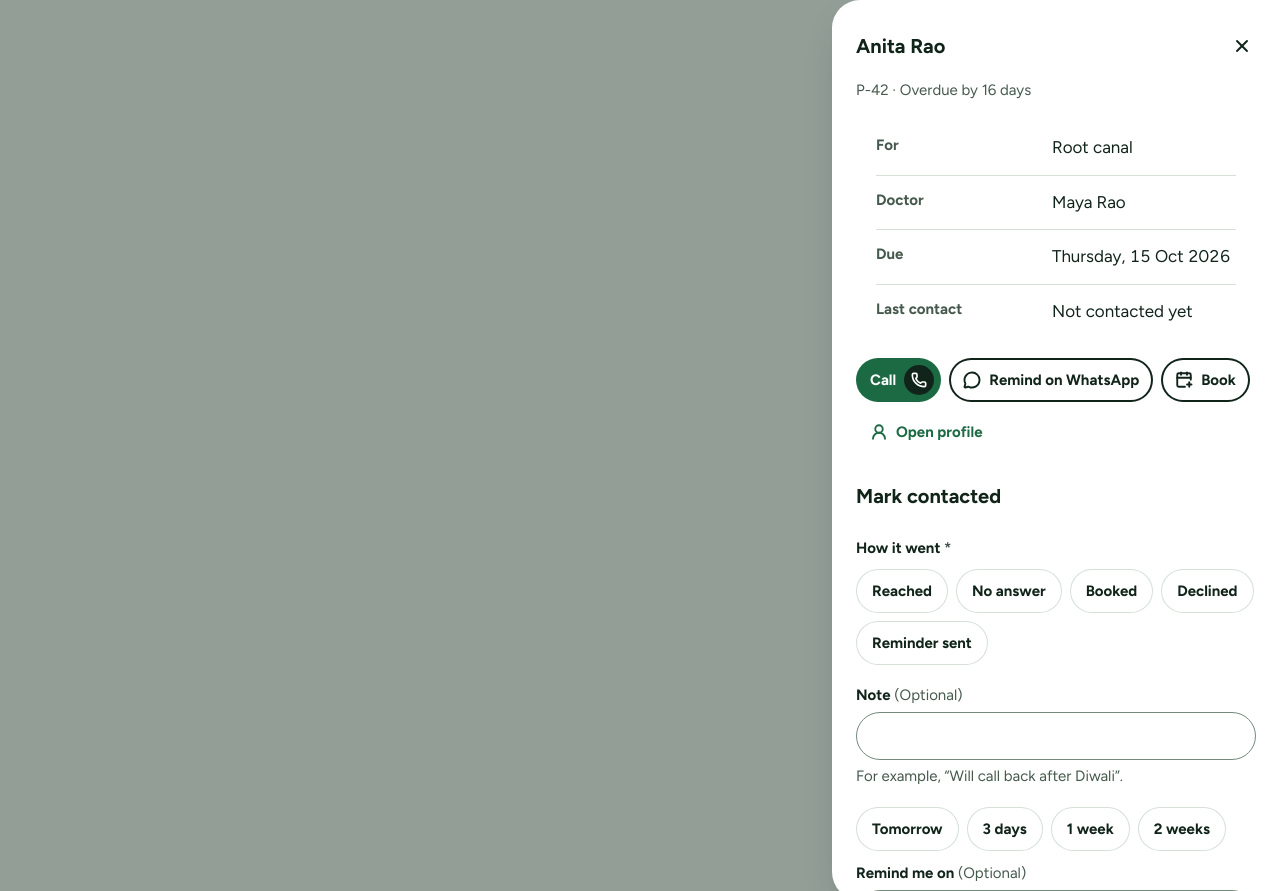
Test case: FollowUpSheet (plan §14.3; D272 – D277) › says a reminder was not noted, in the API's words
Click the link with aria-label "Remind Anita Rao on WhatsApp".
click(1051, 380)  # box top-left (949, 358), bottom-right (1153, 402)
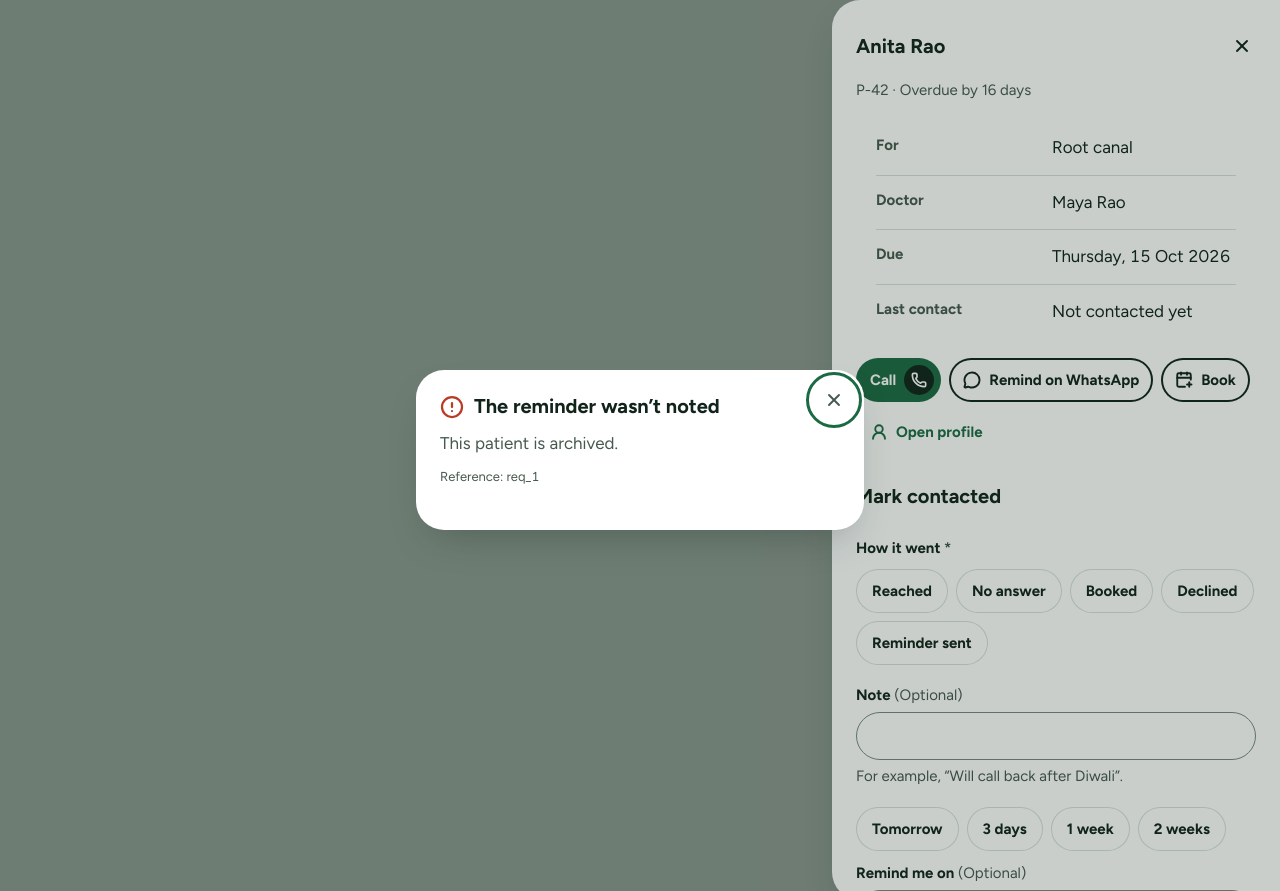
Now the dialog "The reminder wasn’t noted" is shown, box top-left (416, 370), bottom-right (864, 530)
